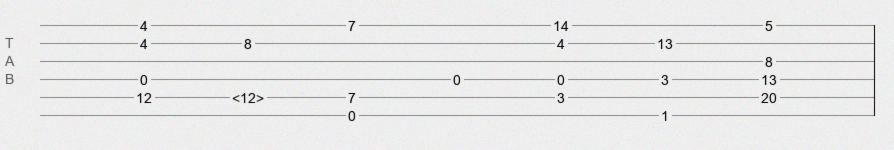0: (140, 72, 148, 82), (348, 108, 356, 118), (453, 72, 461, 82), (557, 72, 565, 82)
1: (661, 108, 669, 118)
12: (136, 90, 152, 100)
13: (657, 36, 673, 46), (761, 72, 777, 82)
14: (553, 18, 569, 28)
20: (761, 90, 777, 100)
3: (557, 90, 565, 100), (661, 72, 669, 82)
4: (140, 18, 148, 28), (140, 36, 148, 46), (557, 36, 565, 46)
5: (765, 18, 773, 28)
7: (348, 18, 356, 28), (348, 90, 356, 100)
8: (244, 36, 252, 46), (765, 54, 773, 64)
harmonic: (232, 90, 264, 100)
